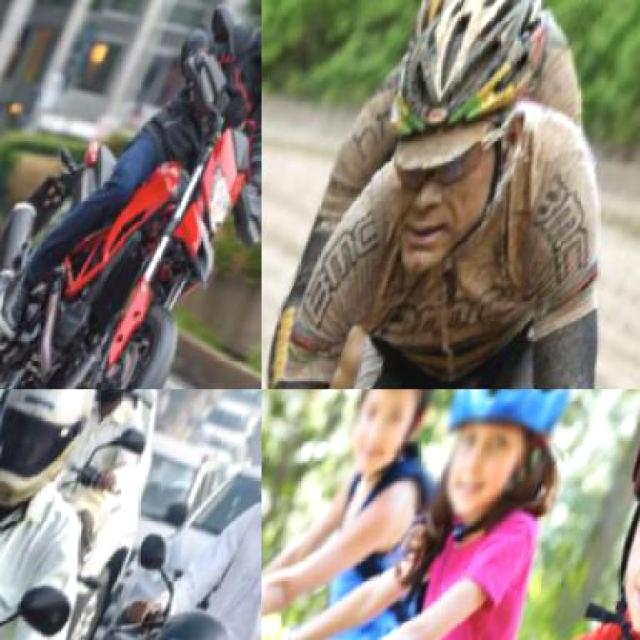With Helmet: (350, 0, 592, 235), (400, 390, 595, 556), (564, 390, 638, 638), (0, 389, 114, 528), (335, 389, 477, 474), (86, 389, 163, 411)
